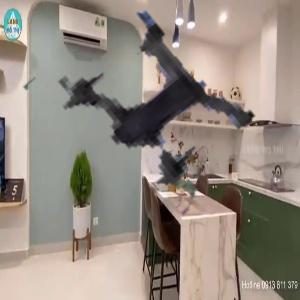drone: (40, 5, 266, 231)
